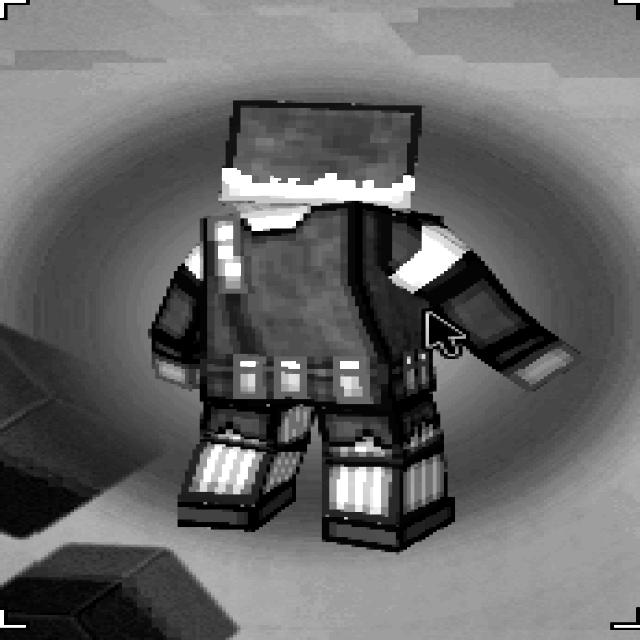Head: (215, 98, 424, 213)
Player: (145, 98, 584, 552)
